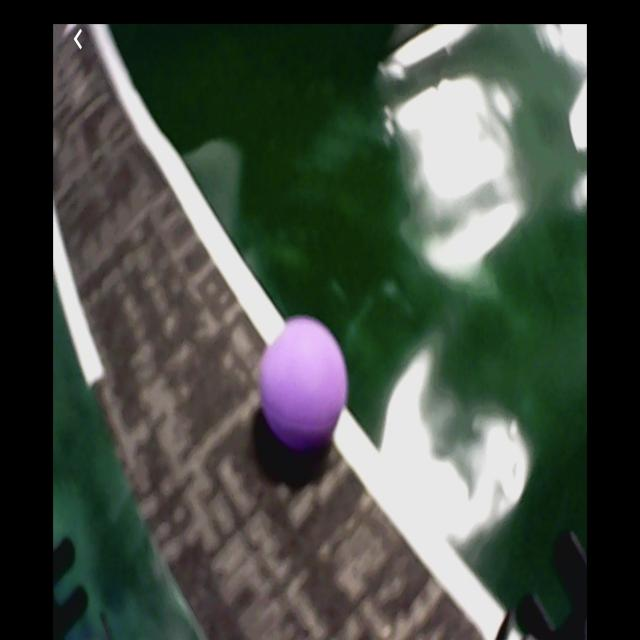ball: (264, 319, 349, 452)
